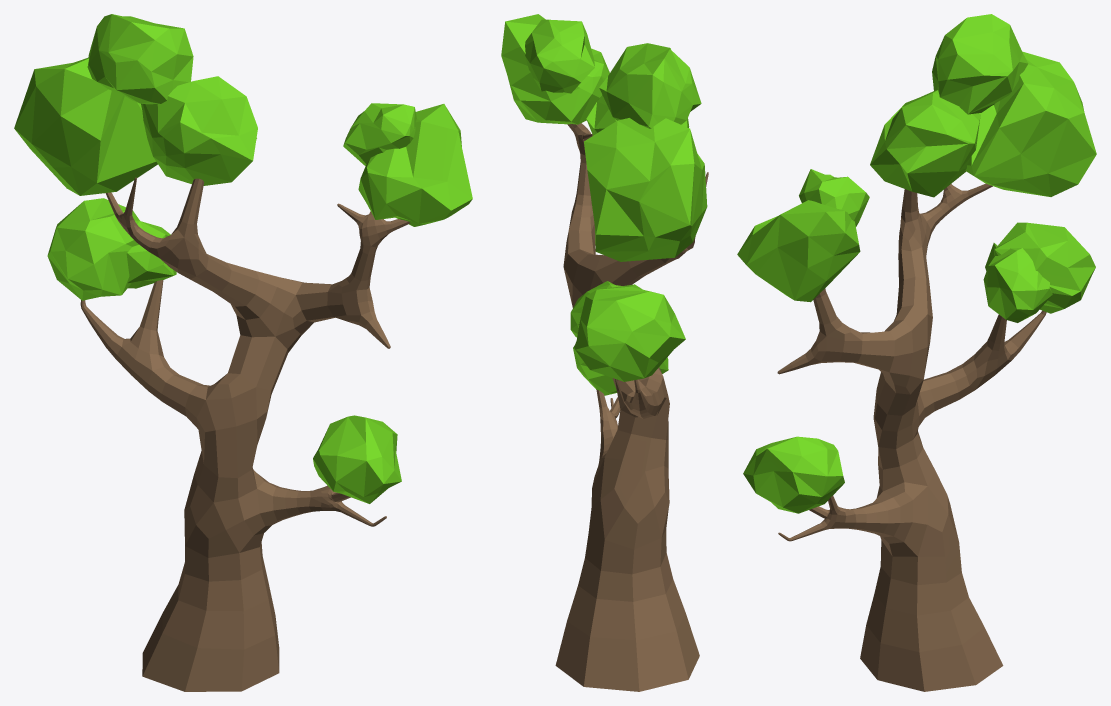
Rendered from Tree_08.fbx.
3 views of the same model, side by side, from view 1: azimuth 30°, elevation 25°; view 2: azimuth 150°, elevation 25°; view 3: azimuth 270°, elevation 25° (orthographic). The views are drawn at different scales.
Parts seen in each view (by area): view 1: Tree_08; view 2: Tree_08; view 3: Tree_08.
Part boxes in pixels (x1,y1,x2,y2): Tree_08: [14, 14, 472, 691]; Tree_08: [501, 14, 708, 691]; Tree_08: [737, 14, 1096, 691].
Size of the model in its own units: 228 by 445 by 235.
